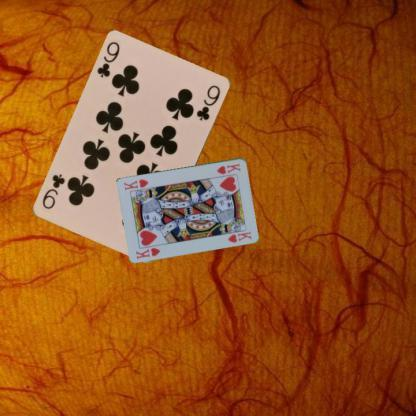9c: (95, 39, 122, 80)
Kh: (214, 160, 242, 176), (133, 245, 162, 260)
